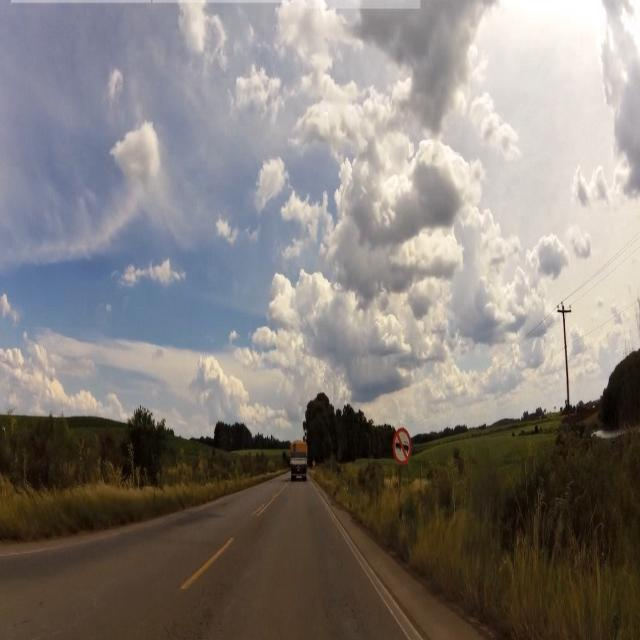R-7: (393, 427, 411, 470)
